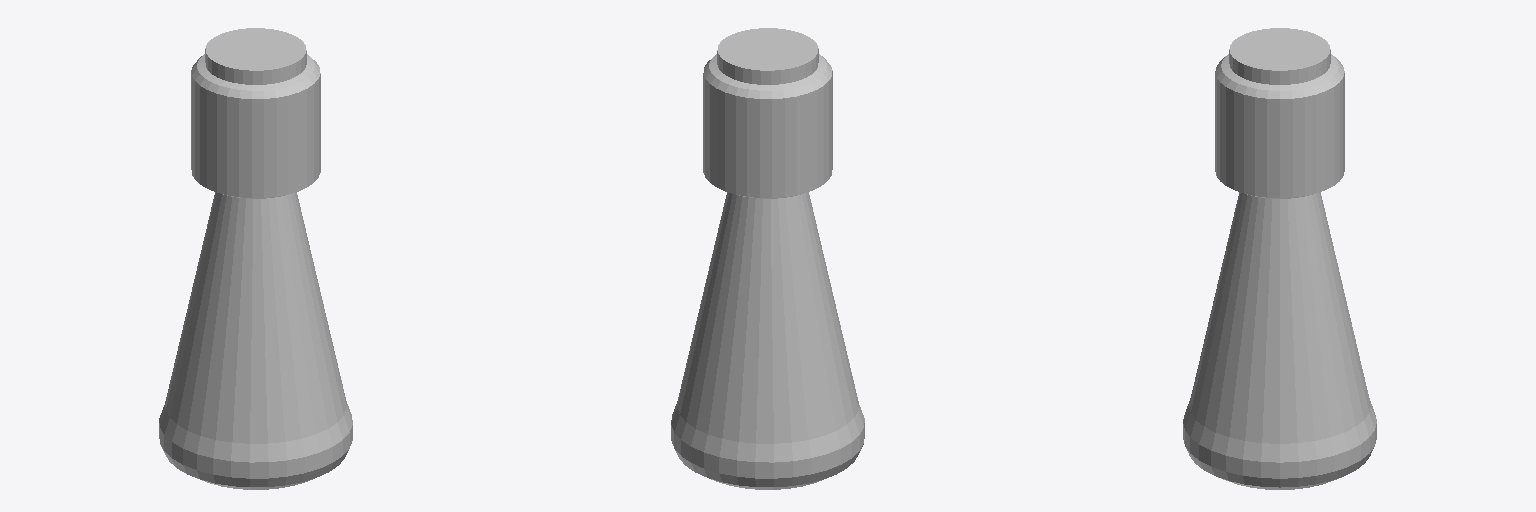
File: enemy.obj
The picture shows the model from 3 angles: view 1: azimuth 30°, elevation 25°; view 2: azimuth 150°, elevation 25°; view 3: azimuth 270°, elevation 25°; orthographic projection.
Visible parts, largest first — view 1: enemy; view 2: enemy; view 3: enemy.
Boxes of the visible parts, x1=… form: enemy: x1=159, y1=28, x2=352, y2=489; enemy: x1=671, y1=28, x2=864, y2=489; enemy: x1=1183, y1=28, x2=1376, y2=489.
Bounding box in the file's own units: 1.46 × 3.44 × 1.46.